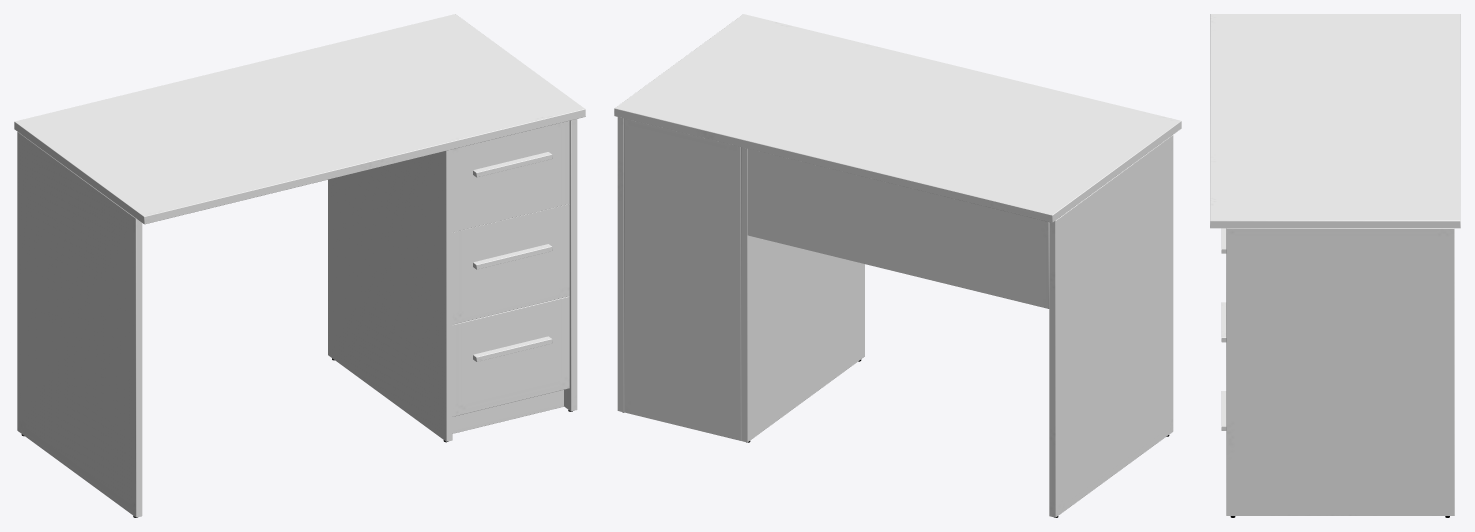
File: B07GFT67NJ.glb
The picture shows the model from 3 angles, left to right: view 1: azimuth 30°, elevation 25°; view 2: azimuth 150°, elevation 25°; view 3: azimuth 270°, elevation 25°; orthographic projection. The views are drawn at different scales.
Visible parts, largest first — view 1: B07GFL6RF5; view 2: B07GFL6RF5; view 3: B07GFL6RF5.
Boxes of the visible parts, x1,y1,x2,y2 form: B07GFL6RF5: (14, 14, 585, 517); B07GFL6RF5: (614, 14, 1181, 517); B07GFL6RF5: (1210, 14, 1460, 517).
Bounding box in the file's own units: 1.1 × 0.7348 × 0.5601.
Materials: 1 (1 with a texture image).
